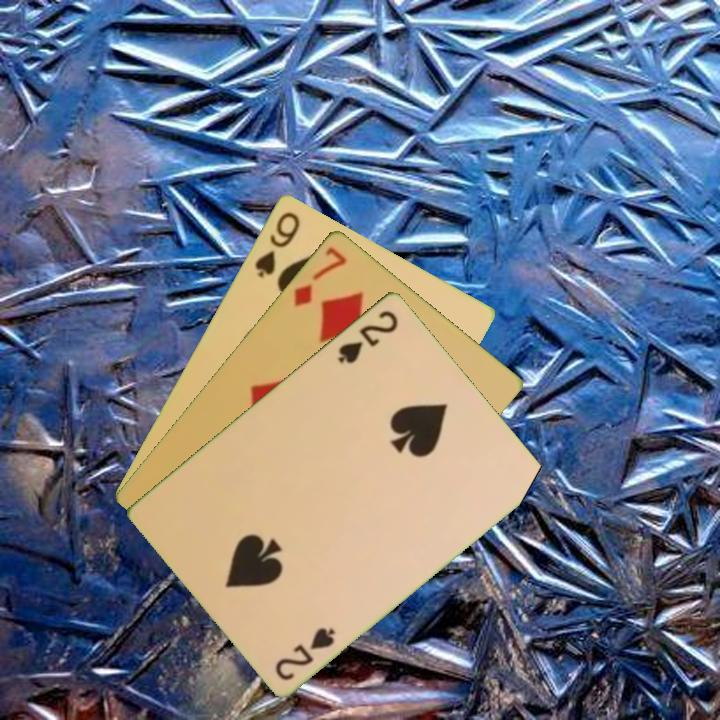2s: (334, 305, 401, 366), (271, 623, 339, 683)
7d: (290, 242, 349, 309)
9s: (251, 207, 303, 280)
